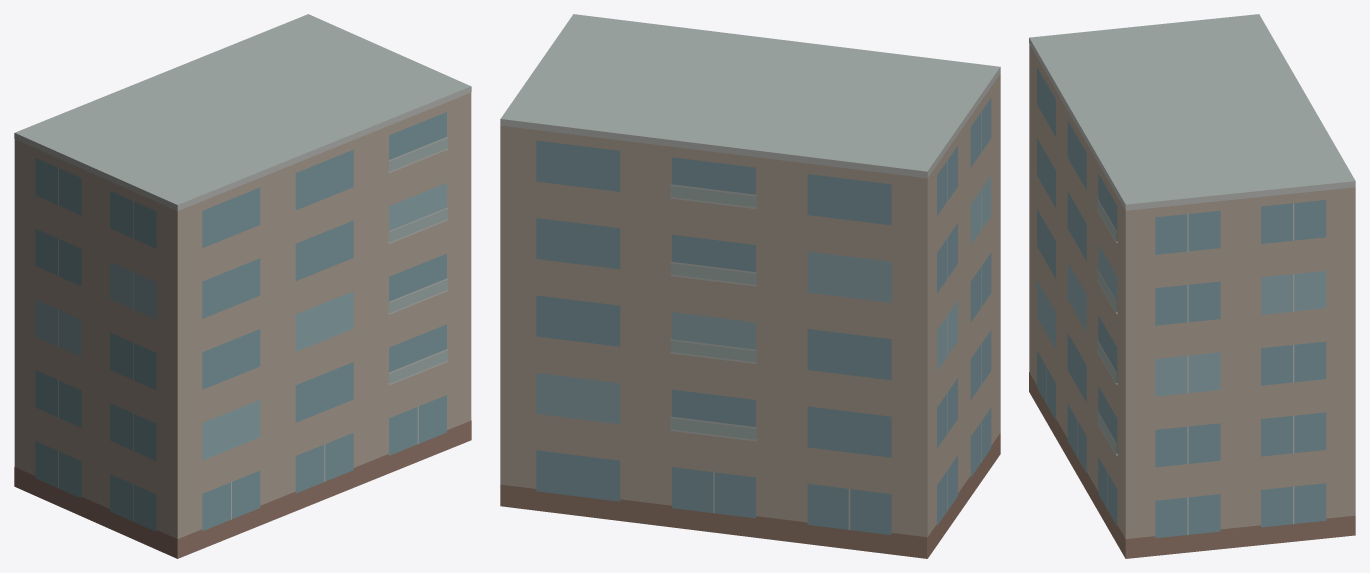
File: survey-upis-32696052.glb
The picture shows the model from 3 angles, left to right: view 1: azimuth 30°, elevation 25°; view 2: azimuth 150°, elevation 25°; view 3: azimuth 270°, elevation 25°; orthographic projection. The views are drawn at different scales.
Visible parts, largest first — view 1: survey-upis-32696052.tmp; view 2: survey-upis-32696052.tmp; view 3: survey-upis-32696052.tmp.
Part boxes in pixels (box(x1,y1,x2,y2)): survey-upis-32696052.tmp: box(14, 14, 471, 558); survey-upis-32696052.tmp: box(500, 14, 1000, 558); survey-upis-32696052.tmp: box(1029, 14, 1355, 558).
Bounding box in the file's own units: 16.4 × 14.2 × 11.87.
